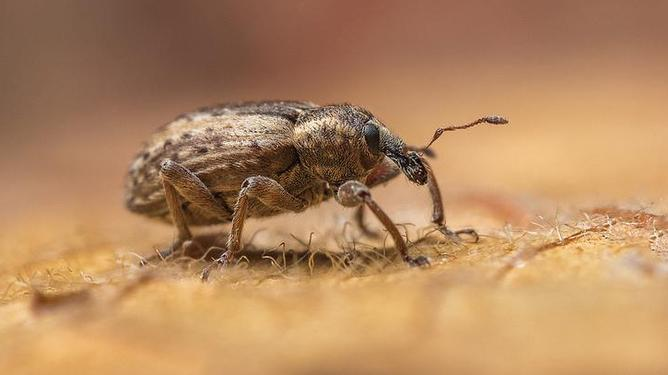weevils: (88, 36, 544, 329)
